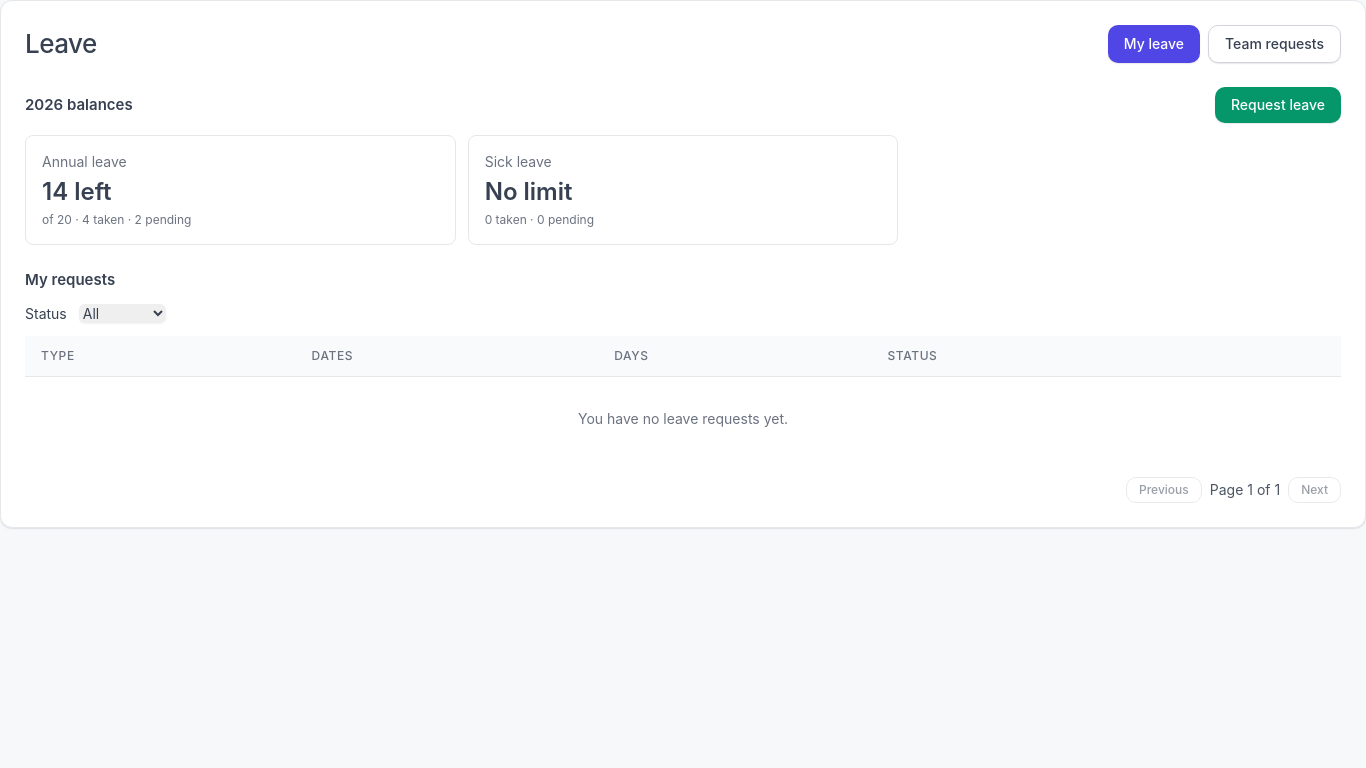
it: Leave page › approvals › shows a manager their team's pending requests and lets them approve
The image size is (1366, 768).
What coordinates should you click on to do the following:
click the tab "Team requests"
I would click on:
 (1275, 44)
Its box is [1208,25,1341,63].
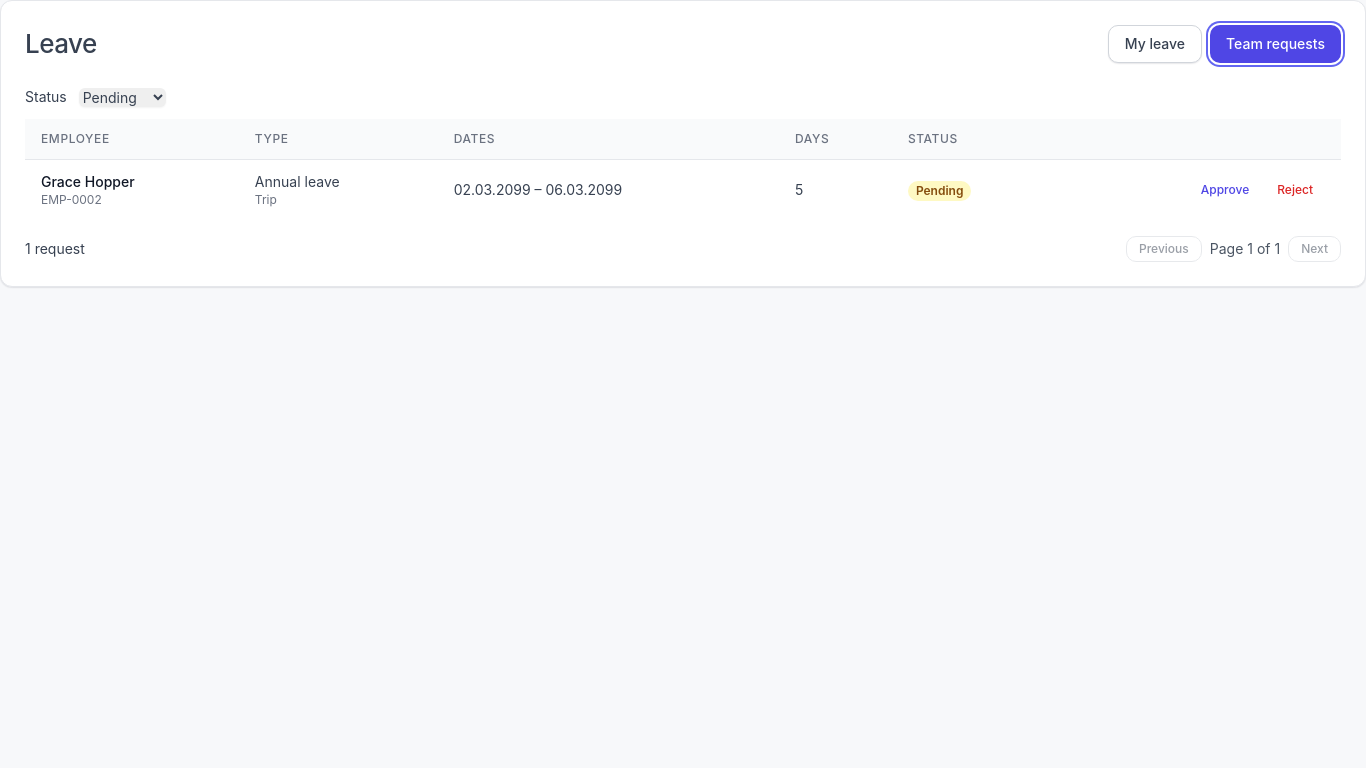
Now the text "Grace Hopper" is shown, box [41,173,135,190]
What coordinates should you click on to do the following:
click the button "Approve"
I would click on:
 (1225, 190)
Its box is [1189,178,1261,202].
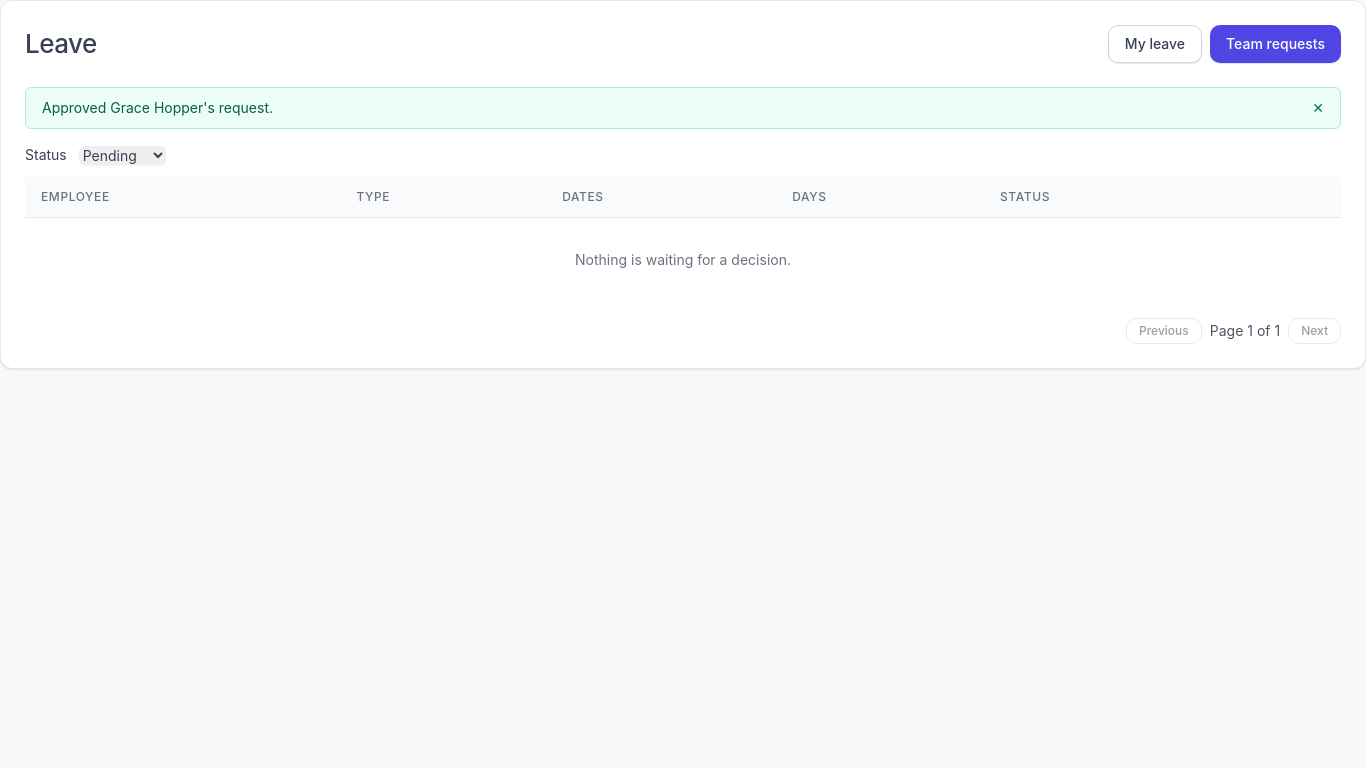
Now the message shows "Approved Grace Hopper", box [42,99,273,116]
